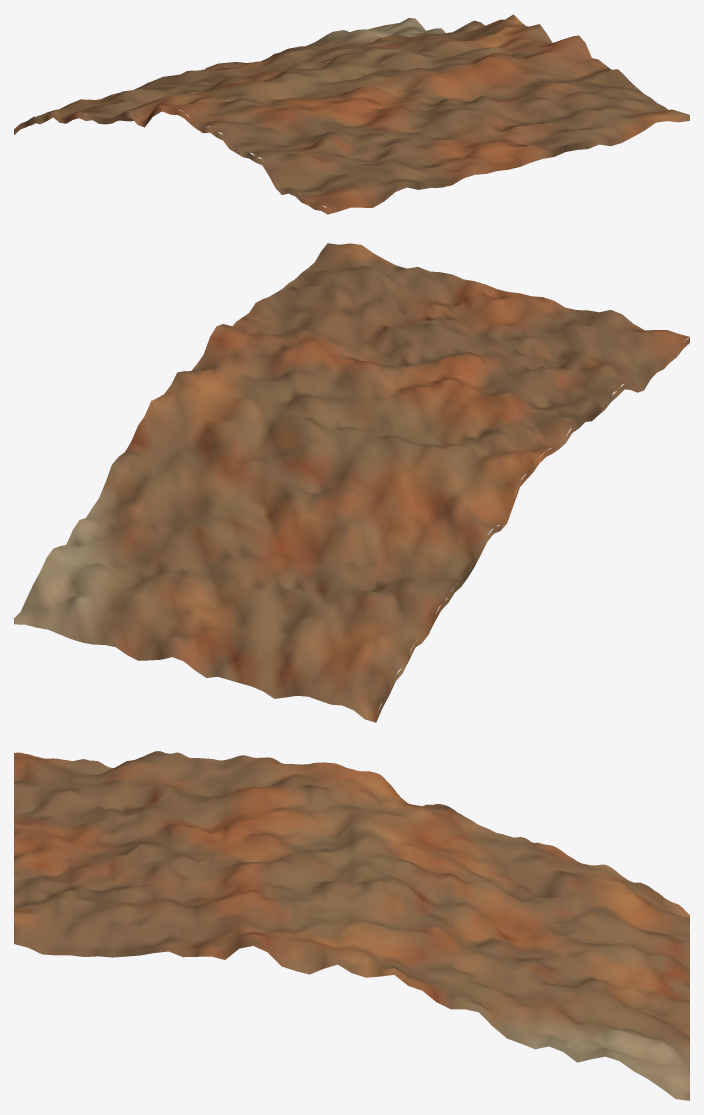
Rendered from terrain-127.glb.
3 renders of one model, top to bottom at view 1: azimuth 30°, elevation 25°; view 2: azimuth 150°, elevation 25°; view 3: azimuth 270°, elevation 25°, orthographic. The views are drawn at different scales.
Parts seen in each view (by area): view 1: terrain-127; view 2: terrain-127; view 3: terrain-127.
Part boxes in pixels (x1,y1,x2,y2): terrain-127: [14, 14, 689, 214]; terrain-127: [14, 243, 689, 722]; terrain-127: [14, 751, 689, 1100].
Size of the model in its own units: 256 by 114 by 384.
